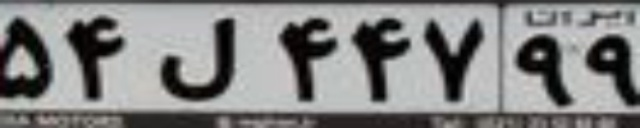4: (275, 13, 340, 103), (63, 14, 130, 99), (354, 14, 411, 101)
5: (0, 16, 56, 98)
7: (419, 14, 488, 103)
9: (510, 31, 571, 105), (584, 31, 638, 107)
lam: (155, 16, 236, 102)
